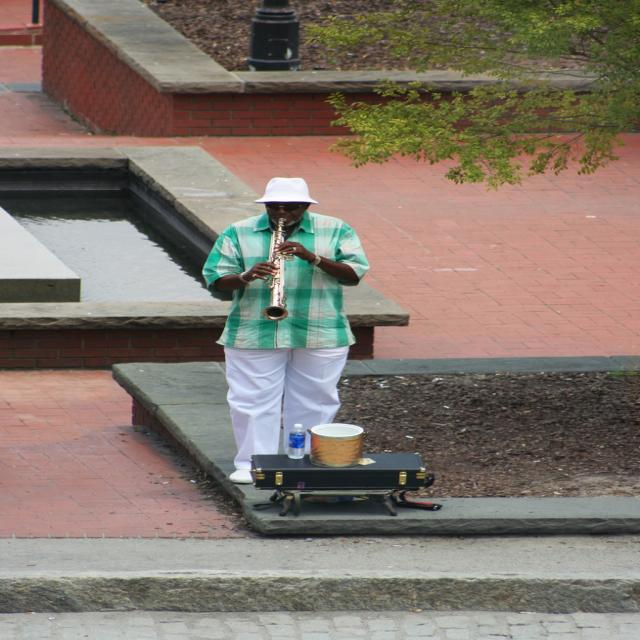clarinet: (260, 215, 299, 321)
